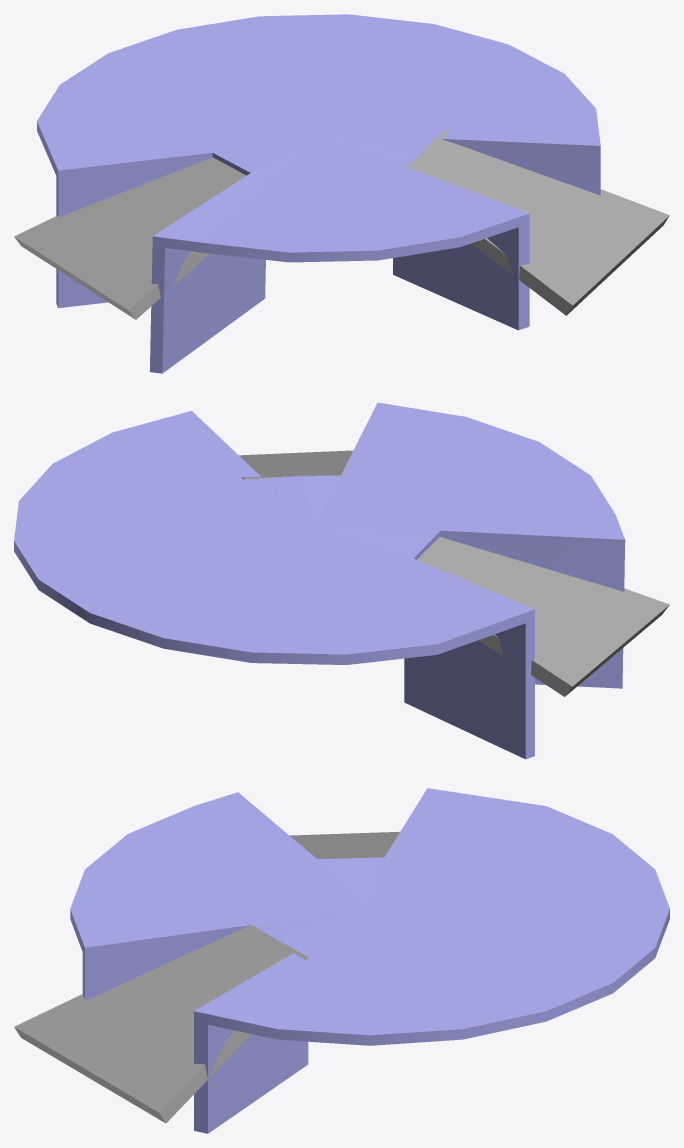
The model's file is Floor2.fbx.
3 renders of one model, top to bottom at view 1: azimuth 30°, elevation 25°; view 2: azimuth 150°, elevation 25°; view 3: azimuth 270°, elevation 25°, orthographic. The views are drawn at different scales.
Visible parts, largest first — view 1: Floors, pCube1, pCube2; view 2: Floors, pCube2, pCube1; view 3: Floors, pCube1, pCube2.
Boxes of the visible parts, left/top/right/bottom form: Floors: left=37, top=14, right=600, bottom=373; pCube1: left=401, top=130, right=669, bottom=315; pCube2: left=14, top=157, right=245, bottom=319; Floors: left=14, top=402, right=625, bottom=759; pCube2: left=417, top=537, right=669, bottom=696; pCube1: left=239, top=450, right=353, bottom=491; Floors: left=70, top=788, right=669, bottom=1133; pCube1: left=14, top=920, right=308, bottom=1123; pCube2: left=290, top=831, right=399, bottom=858.
Size of the model in its own units: 20.76 by 5.31 by 21.25.
